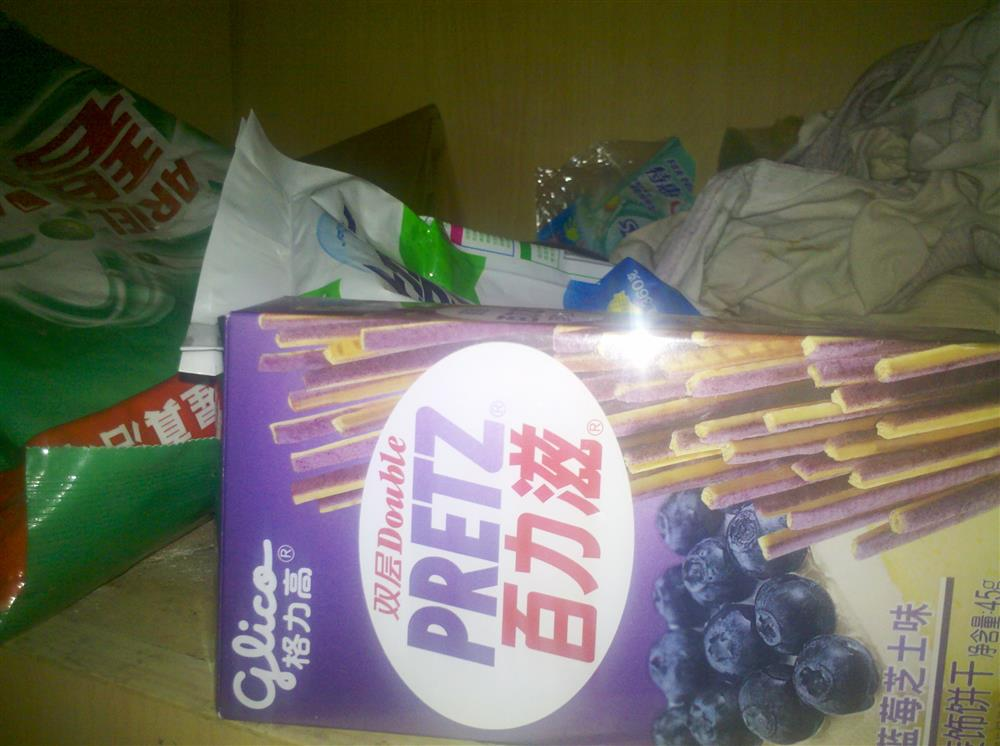Pretz: (205, 301, 986, 729)
